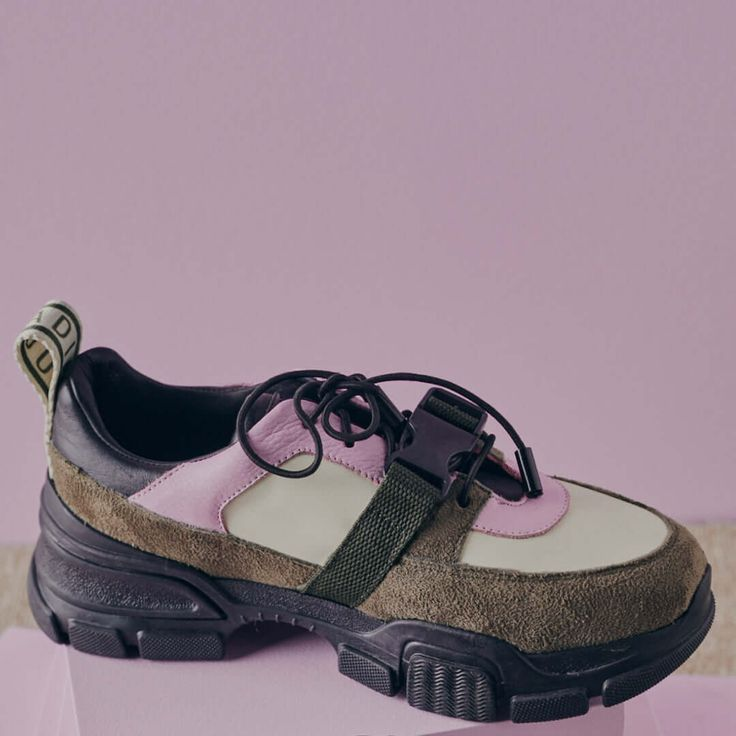gamuza: (43, 421, 708, 652)
